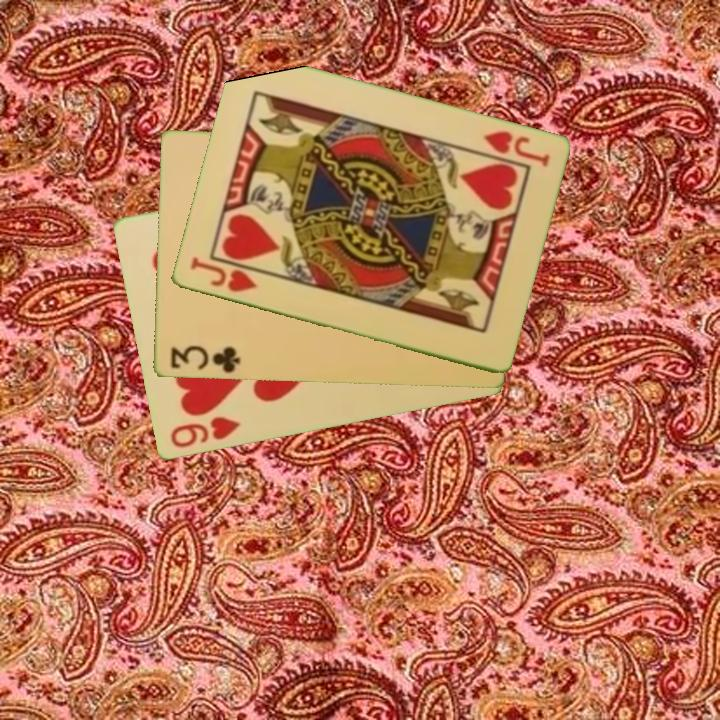3c: (167, 342, 243, 377)
9h: (166, 413, 243, 451)
Jh: (186, 253, 260, 296), (479, 127, 552, 170)
